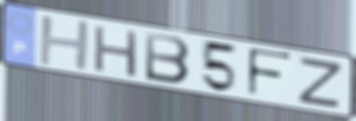5: (198, 38, 238, 95)
B: (143, 30, 193, 87)
F: (245, 46, 294, 99)
H: (36, 15, 93, 73), (92, 23, 141, 80)
Z: (294, 57, 345, 111)
